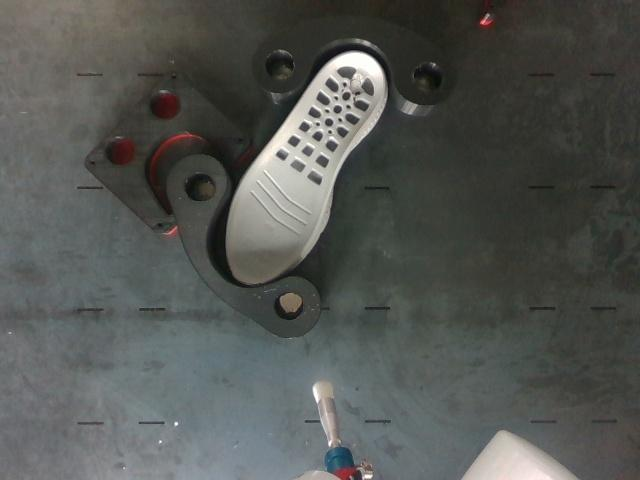shoes: (226, 53, 384, 283)
